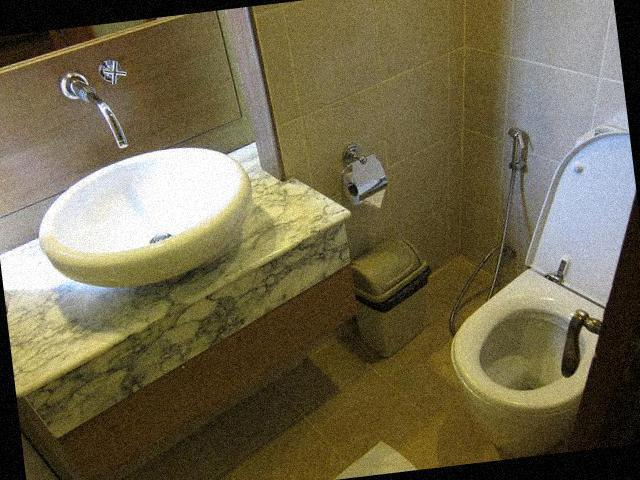Bote de Basura: (338, 228, 443, 363)
Lavamanos: (14, 47, 275, 308)
